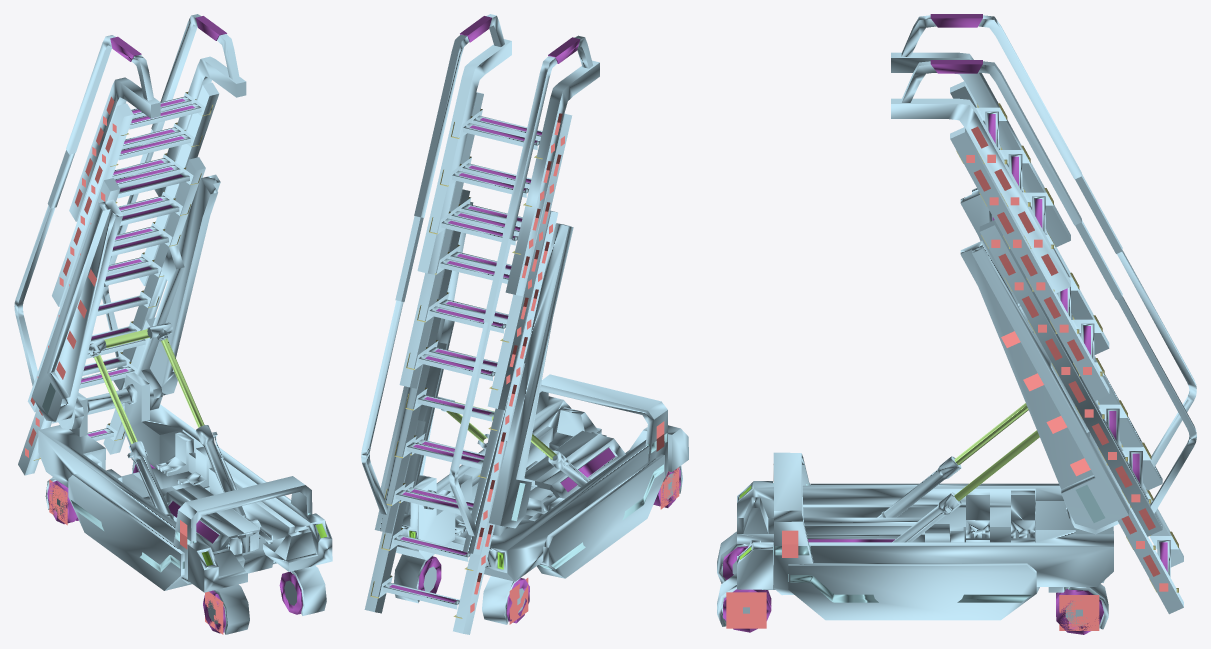
Rendered from ladder_mobile_1_a.glb.
3 views of the same model, side by side, from view 1: azimuth 30°, elevation 25°; view 2: azimuth 150°, elevation 25°; view 3: azimuth 270°, elevation 25° (orthographic). The views are drawn at different scales.
Bounding box in the file's own units: 0.7795 × 2.99 × 2.29.
